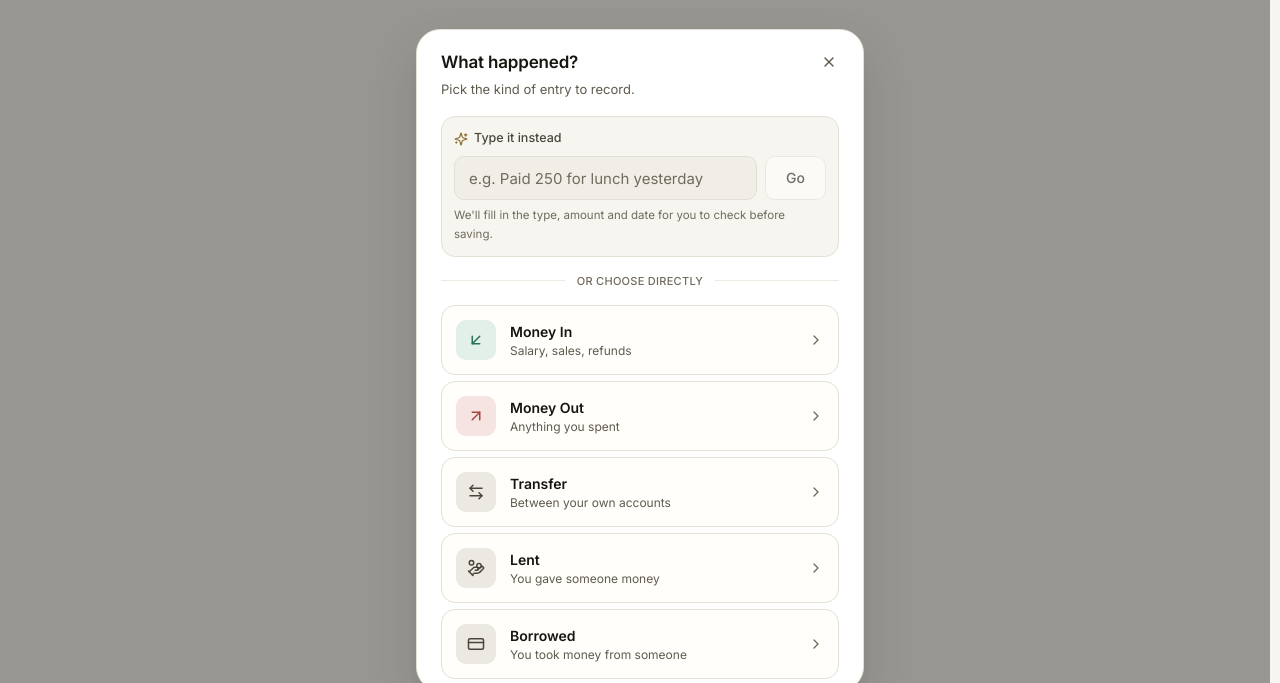
Scenario: <QuickAddSheet> typed entry reads accounts and asks about the rest (§Phase 2) › asks which account when the sentence did not say, until one is chosen
Type "Paid 250 for lunch" into the field with id "nl-quick-entry" at (606, 178), box x1=454 y1=156 x2=757 y2=200
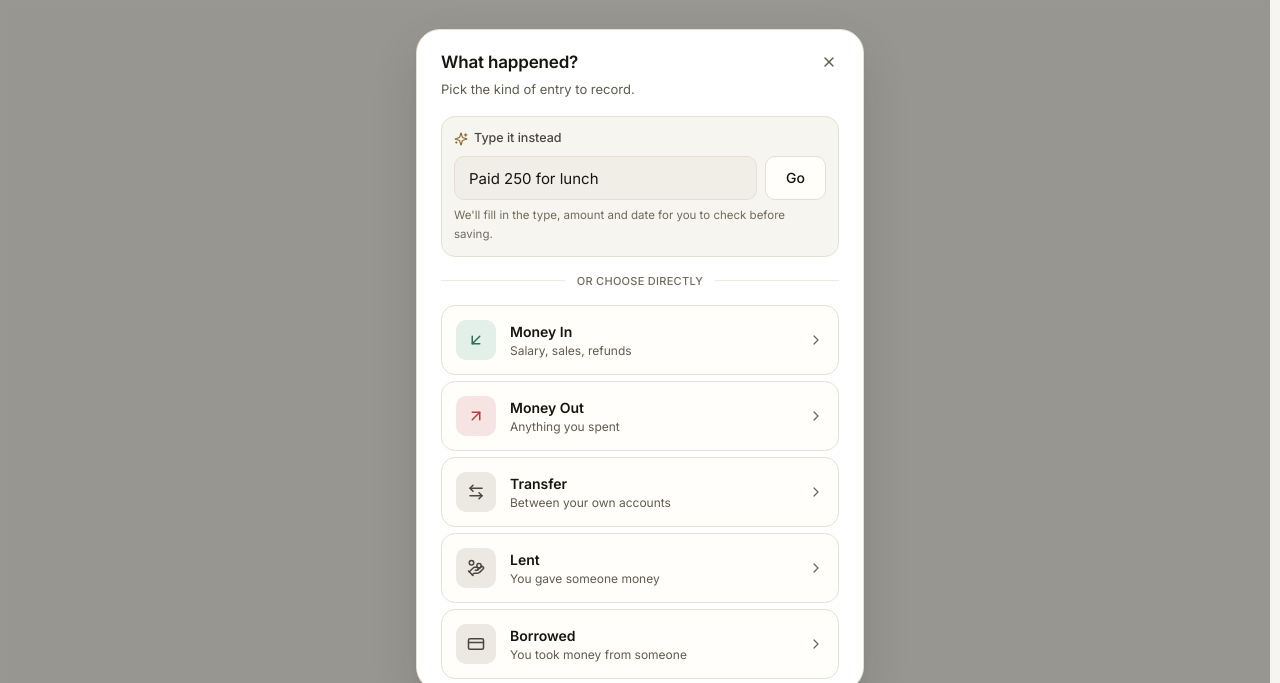
Click the button "Go" at (796, 178), box x1=765 y1=156 x2=826 y2=200
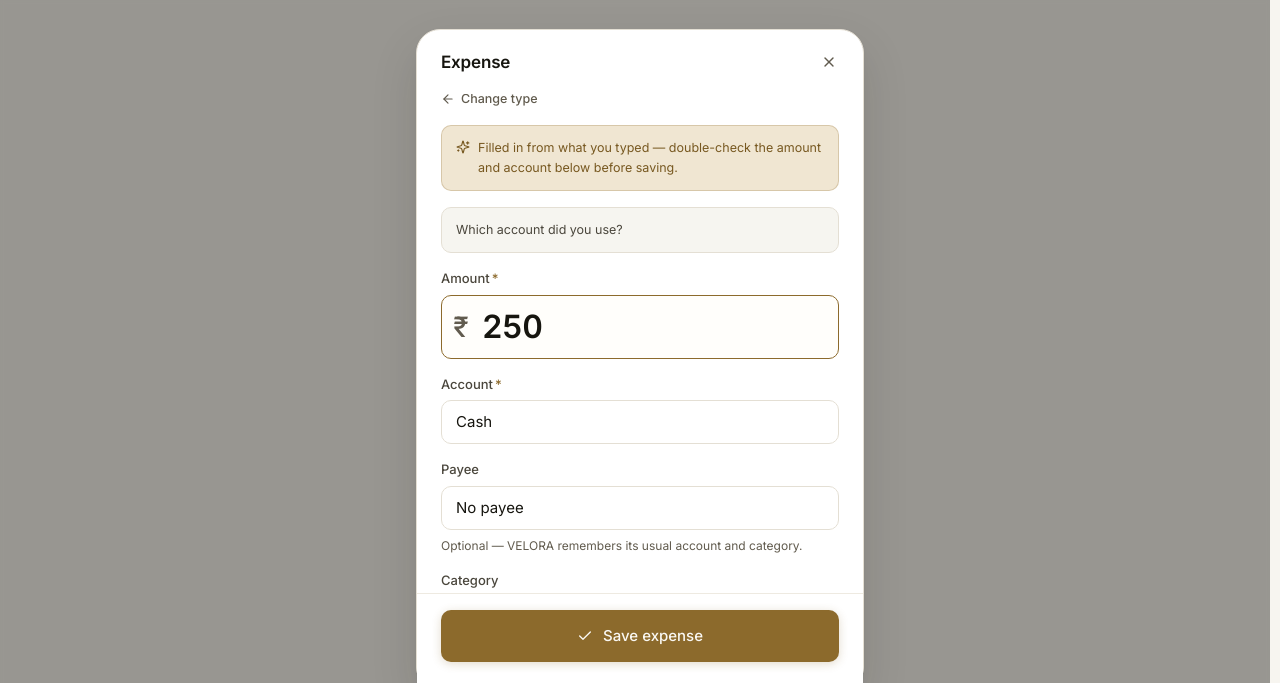
Expected: the list item "Which account did you use?" is shown, x1=456 y1=222 x2=623 y2=237
Select "Bank" in the dropdown labelled "Account*" at (640, 422), box x1=441 y1=400 x2=839 y2=444
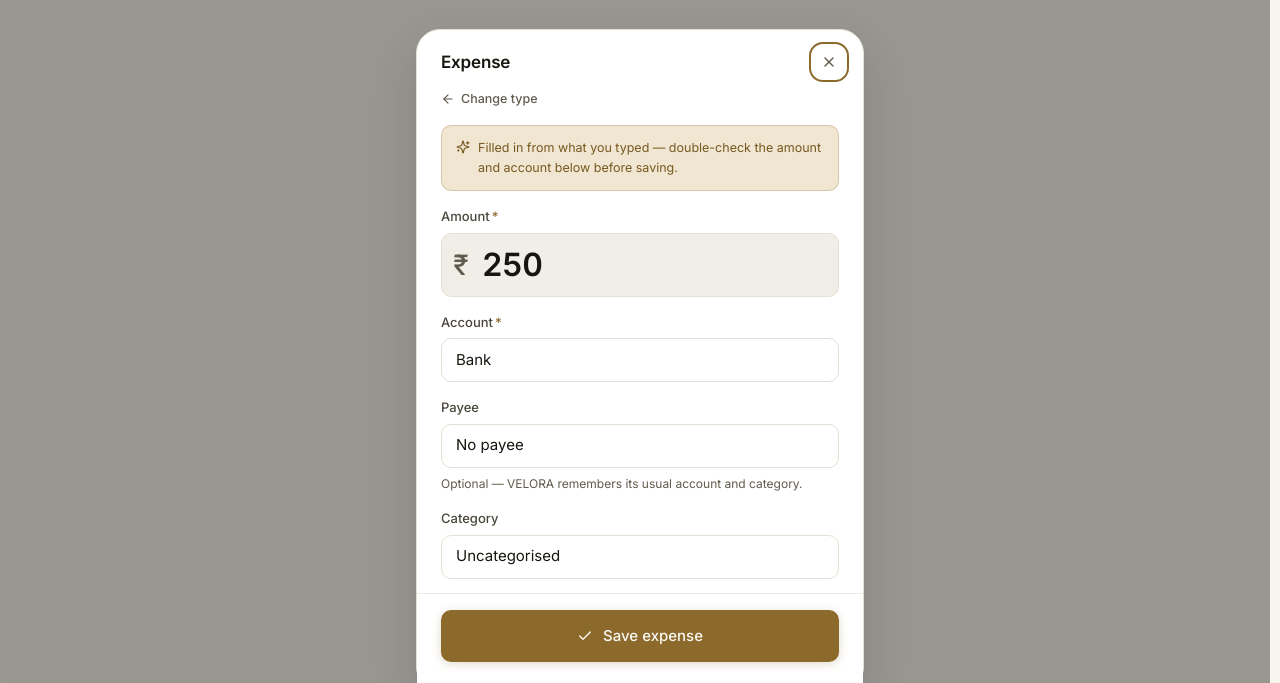
Expected: the list item "Which account did you use?" is gone
